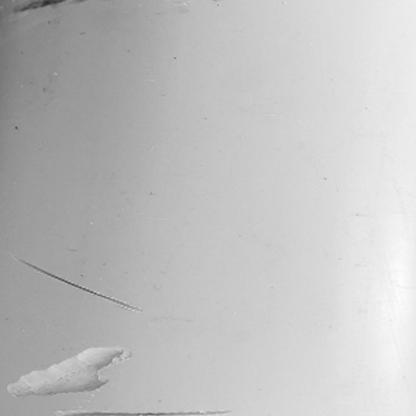sunshang: (13, 255, 141, 314), (5, 346, 130, 398), (56, 407, 230, 416)
